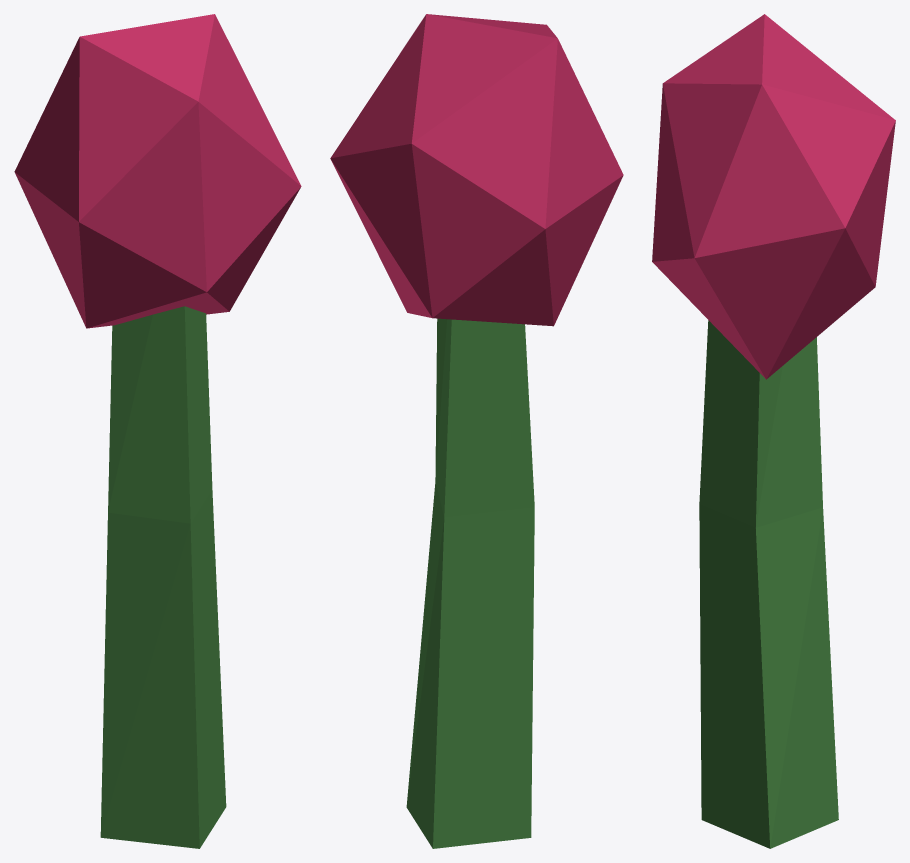
File: Flower3.fbx
The picture shows the model from 3 angles, left to right: view 1: azimuth 30°, elevation 25°; view 2: azimuth 150°, elevation 25°; view 3: azimuth 270°, elevation 25°; orthographic projection. The views are drawn at different scales.
Visible parts, largest first — view 1: Merged; view 2: Merged; view 3: Merged.
Part boxes in pixels (box(x1,y1,x2,y2)): Merged: box(14, 14, 301, 848); Merged: box(330, 14, 623, 848); Merged: box(652, 14, 895, 848).
Size of the model in its own units: 35.07 by 123 by 35.52.
